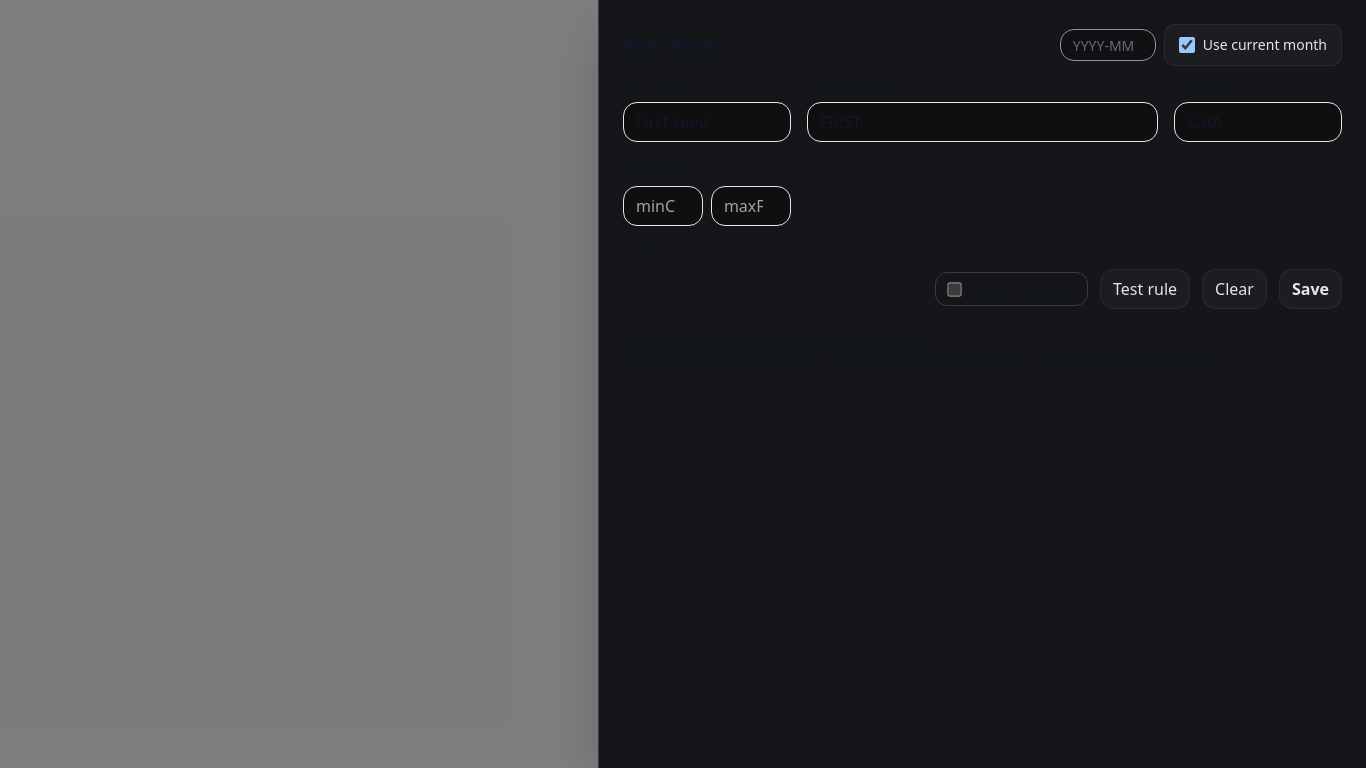
it: RuleTesterPanel replacement seed events › overwrites existing draft fields & month on second seed event
expect the field with placeholder "e.g., Subscriptions" holds "CatA": met, box [1174,102,1342,142]
Note: Modify locally to ensure replacement truly overrides user edits
Replace the text in the field with placeholder "e.g., \"NETFLIX\" (case-insensitive)" with "LOCAL" at (983, 122), box [807,102,1158,142]
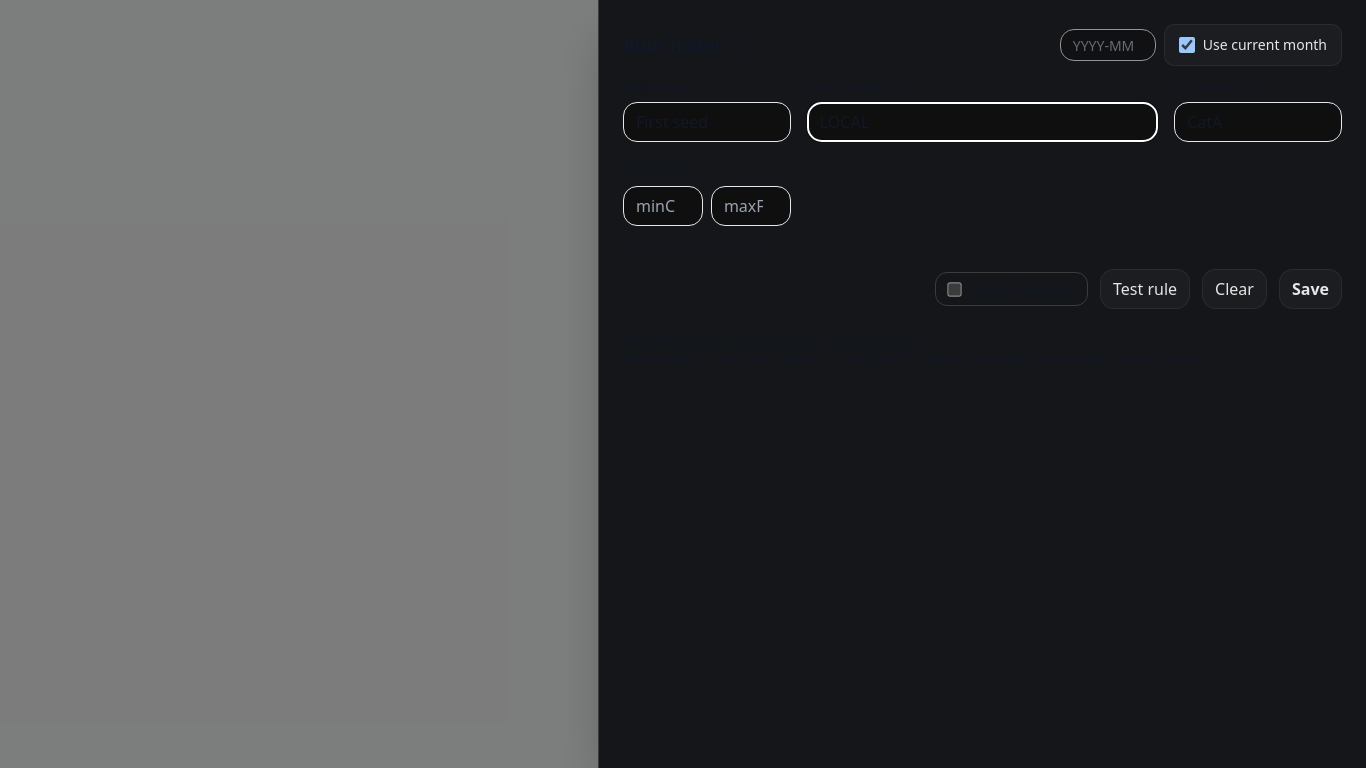
Replace the text in the field with placeholder "e.g., Subscriptions" with "LocalCat" at (1258, 122), box [1174,102,1342,142]
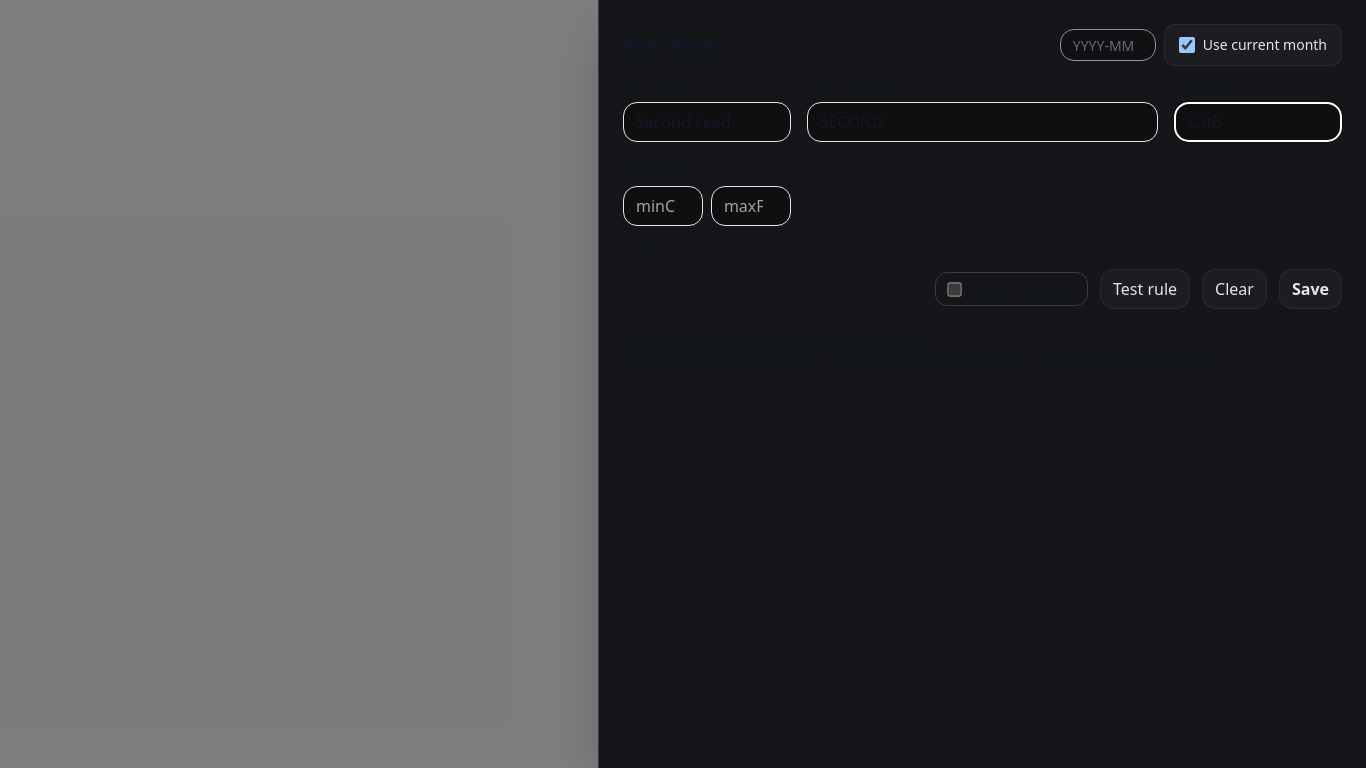
expect the field with placeholder "e.g., \"NETFLIX\" (case-insensitive)" holds "SECOND": met, box [807,102,1158,142]
expect the field with placeholder "e.g., Subscriptions" holds "CatB": met, box [1174,102,1342,142]
